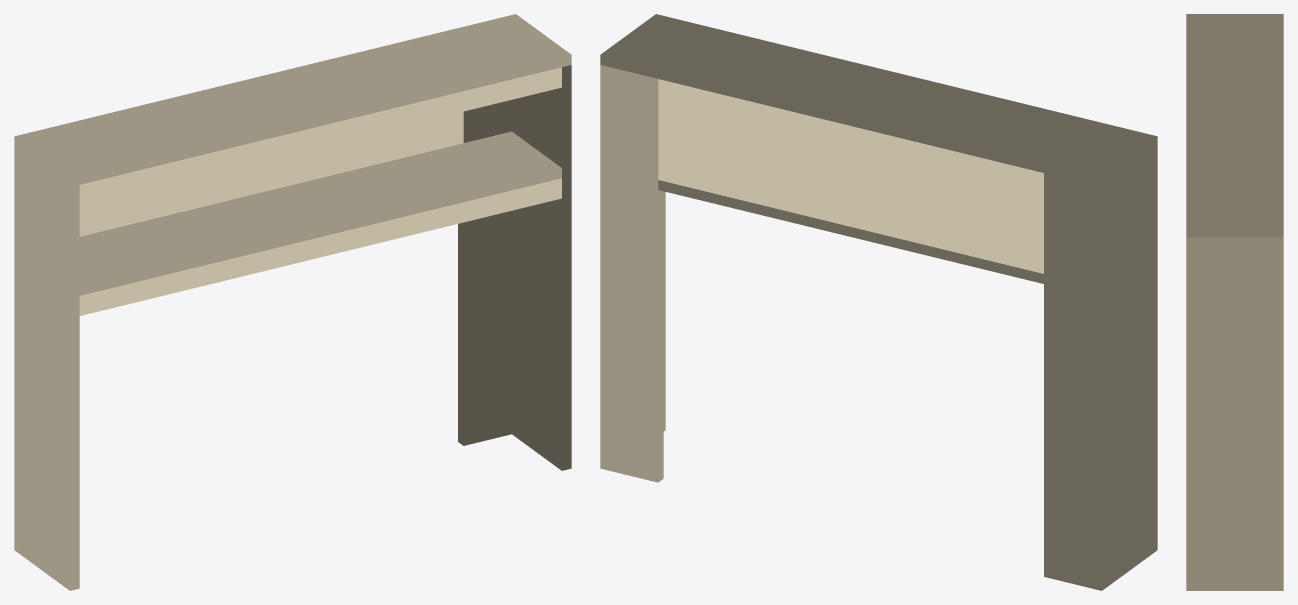
Rendered from savagecode_wood_texture_and_shelves.dae.
3 views of the same model, side by side, from view 1: azimuth 30°, elevation 25°; view 2: azimuth 150°, elevation 25°; view 3: azimuth 270°, elevation 25° (orthographic). The views are drawn at different scales.
Visible parts, largest first — view 1: Cube_001, Cube_006, Cube_003, Cube_002, Cube_005, Cube_007, Cube_008, Cube; view 2: Cube_007, Cube_001, Cube_003, Cube_005, Cube_004, Cube_002, Cube_006; view 3: Cube_002, Cube_001.
Boxes of the visible parts, left/top/right/bottom form: Cube_001: left=14, top=14, right=571, bottom=186; Cube_006: left=79, top=131, right=561, bottom=295; Cube_003: left=14, top=146, right=79, bottom=590; Cube_002: left=512, top=65, right=571, bottom=470; Cube_005: left=458, top=100, right=511, bottom=445; Cube_007: left=79, top=111, right=463, bottom=236; Cube_008: left=79, top=67, right=561, bottom=204; Cube: left=79, top=178, right=561, bottom=315; Cube_007: left=658, top=79, right=1043, bottom=273; Cube_001: left=600, top=14, right=1157, bottom=186; Cube_003: left=1092, top=146, right=1157, bottom=590; Cube_005: left=610, top=67, right=663, bottom=482; Cube_004: left=1044, top=173, right=1092, bottom=588; Cube_002: left=600, top=65, right=665, bottom=470; Cube_006: left=658, top=180, right=1043, bottom=283; Cube_002: left=1186, top=237, right=1283, bottom=590; Cube_001: left=1186, top=14, right=1283, bottom=237.
Bounding box in the file's own units: 1.3 × 0.25 × 1.03.
